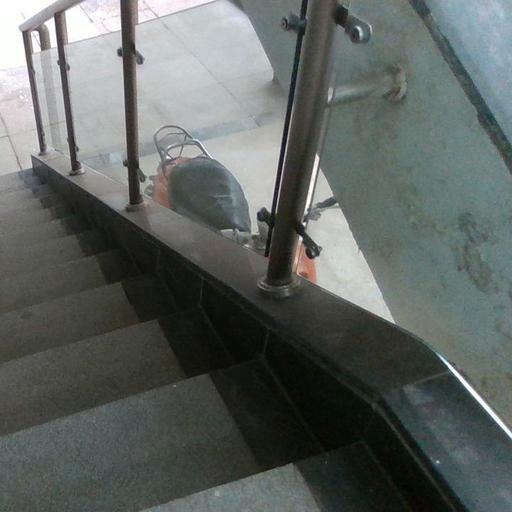Stairs: (0, 171, 409, 512)
